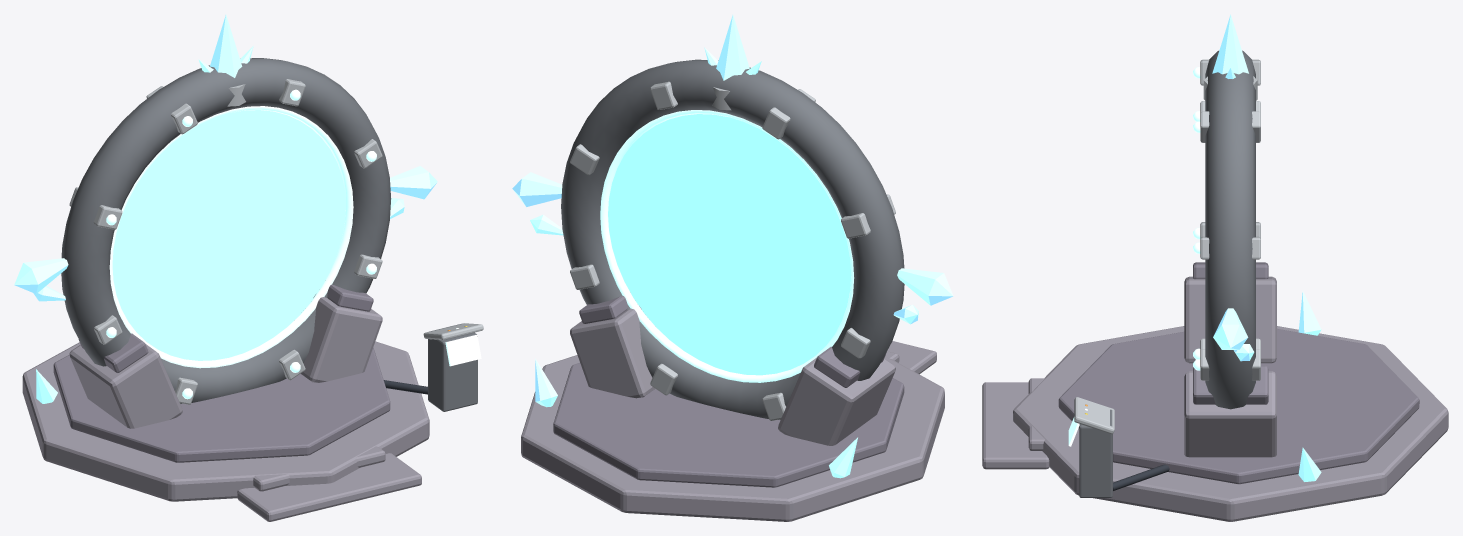
The model's file is gate.glb.
3 views of the same model, side by side, from view 1: azimuth 30°, elevation 25°; view 2: azimuth 150°, elevation 25°; view 3: azimuth 270°, elevation 25° (orthographic). The views are drawn at different scales.
Parts seen in each view (by area): view 1: Gate.001, Portal.001; view 2: Gate.001, Portal.001; view 3: Gate.001.
Boxes of the visible parts, x1,y1,x2,y2 form: Gate.001: (14,14,483,521); Portal.001: (112,110,345,360); Gate.001: (512,15,953,521); Portal.001: (608,114,851,375); Gate.001: (982,14,1448,521).
Size of the model in its own units: 6.02 by 5.47 by 5.54.
